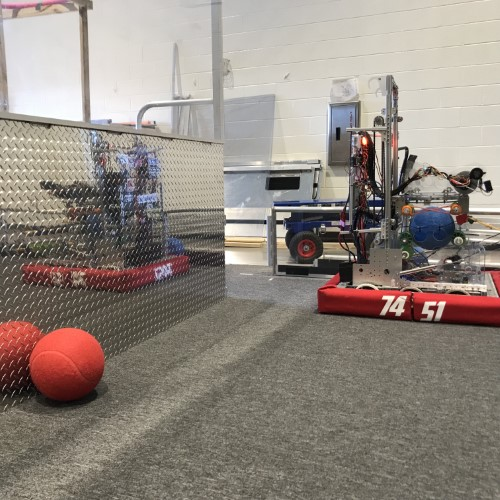blue: (407, 204, 457, 252)
red: (26, 326, 107, 403)
